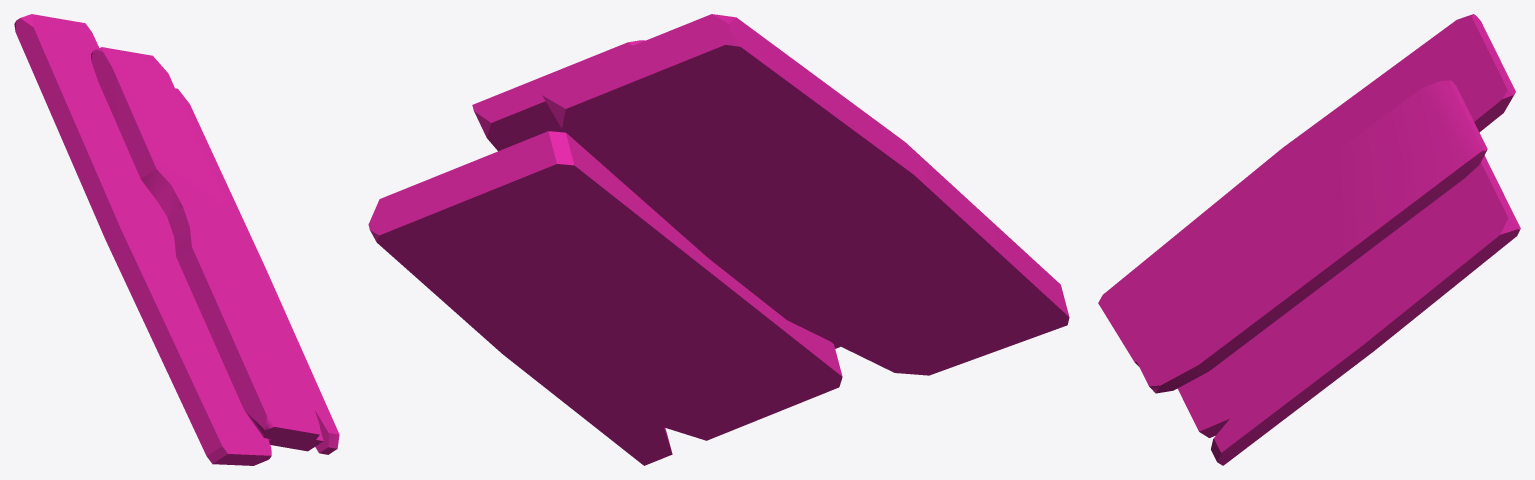
Rendered from Wood.FBX.
3 renders of one model, left to right at view 1: azimuth 30°, elevation 25°; view 2: azimuth 150°, elevation 25°; view 3: azimuth 270°, elevation 25°, orthographic. The views are drawn at different scales.
Visible parts, largest first — view 1: Wood; view 2: Wood; view 3: Wood.
Part boxes in pixels (left/top/right/bottom): Wood: left=14, top=14, right=339, bottom=465; Wood: left=368, top=14, right=1069, bottom=465; Wood: left=1098, top=14, right=1520, bottom=465.
Size of the model in its own units: 5.07 by 9.53 by 9.84.
